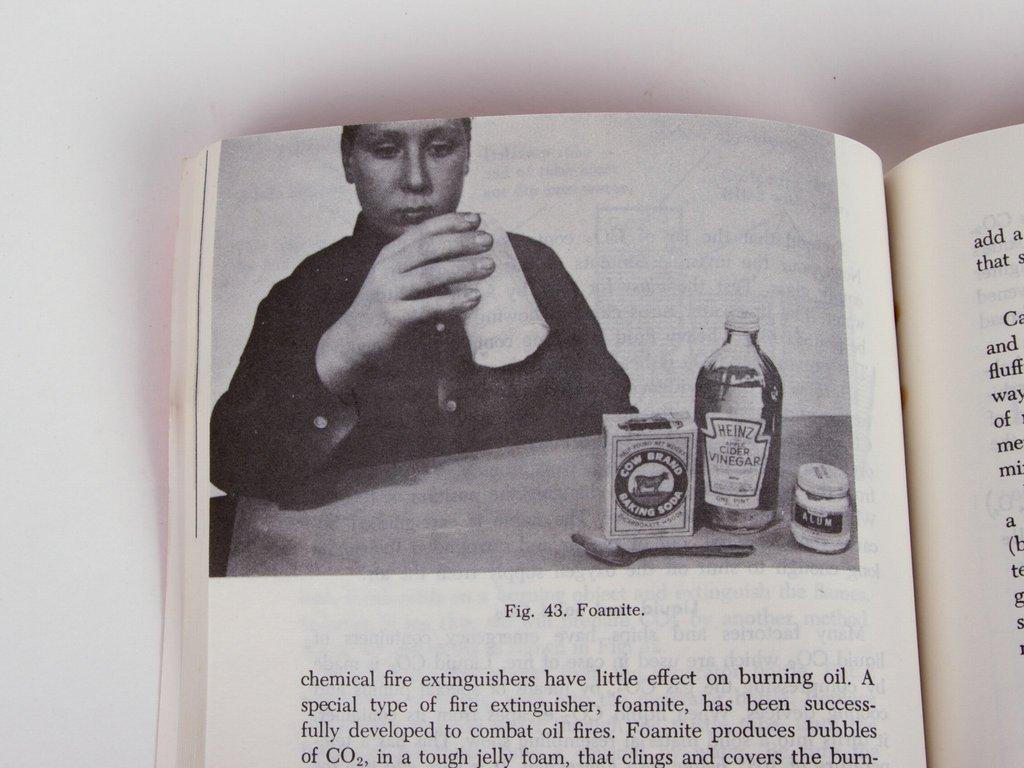Sem Máscara: (342, 116, 469, 221)
